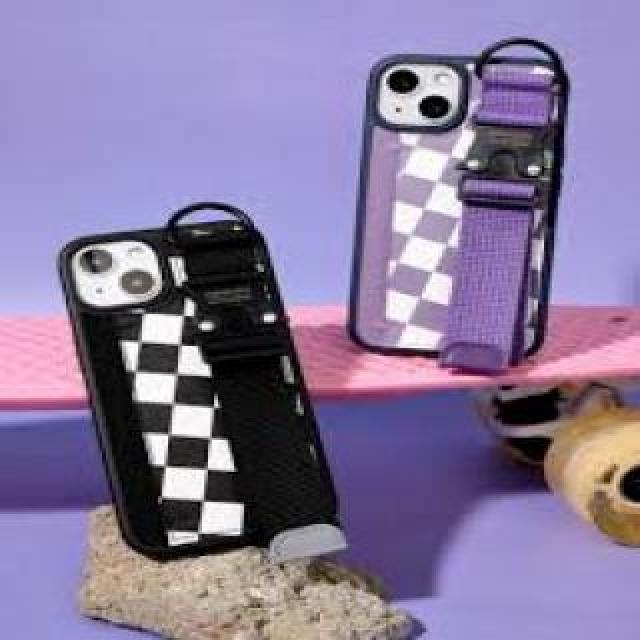smart phone: (60, 170, 355, 578), (356, 35, 596, 423)
